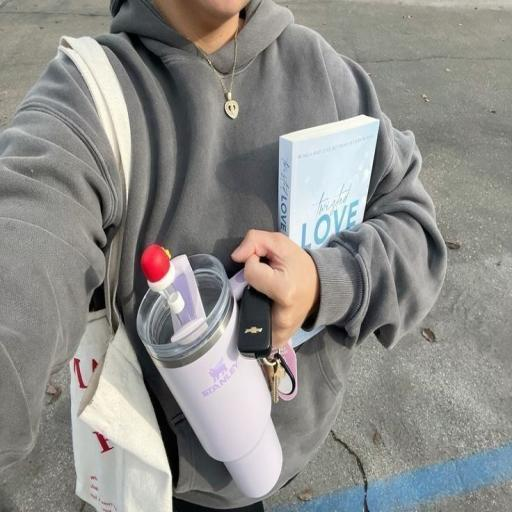bed: (278, 115, 379, 347)
bench: (132, 236, 289, 500)
door: (58, 37, 172, 512)
